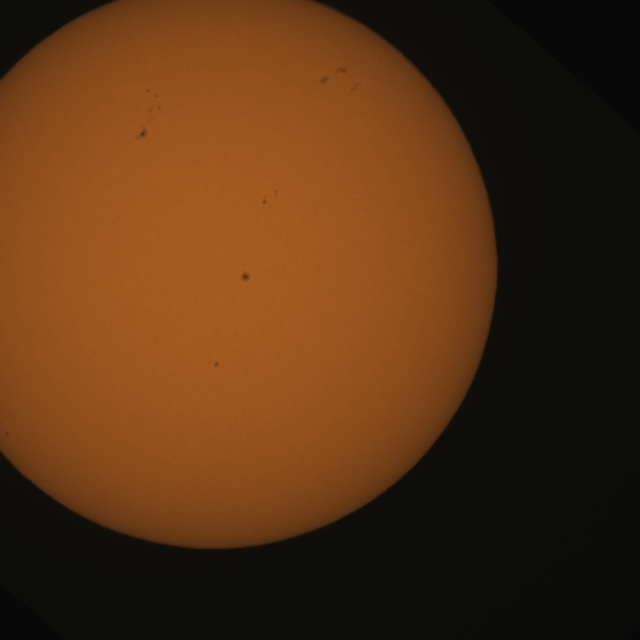sunspot: (318, 66, 348, 86), (144, 87, 162, 115), (146, 98, 161, 114), (262, 189, 277, 205), (145, 88, 160, 102), (135, 126, 149, 141), (318, 74, 330, 86), (350, 81, 362, 93), (240, 271, 251, 283), (335, 66, 348, 76), (4, 430, 11, 438), (213, 360, 220, 368), (261, 197, 267, 205), (363, 207, 369, 214), (145, 87, 151, 93), (273, 189, 278, 195)
